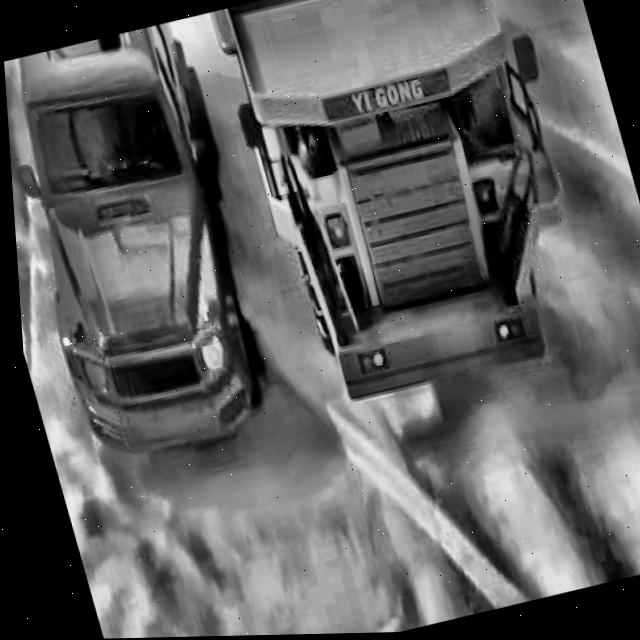dump_truck: (205, 0, 601, 409)
light_vehicle: (1, 20, 280, 454)
